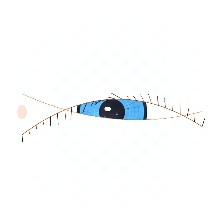pinguecula_lesion: (30, 97, 58, 120)
